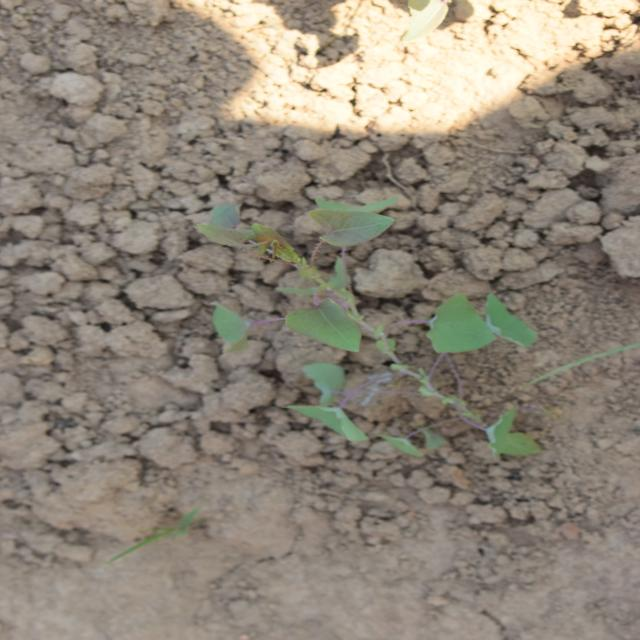Asiatic_Smartweed: (264, 185, 454, 402), (256, 401, 360, 545)
